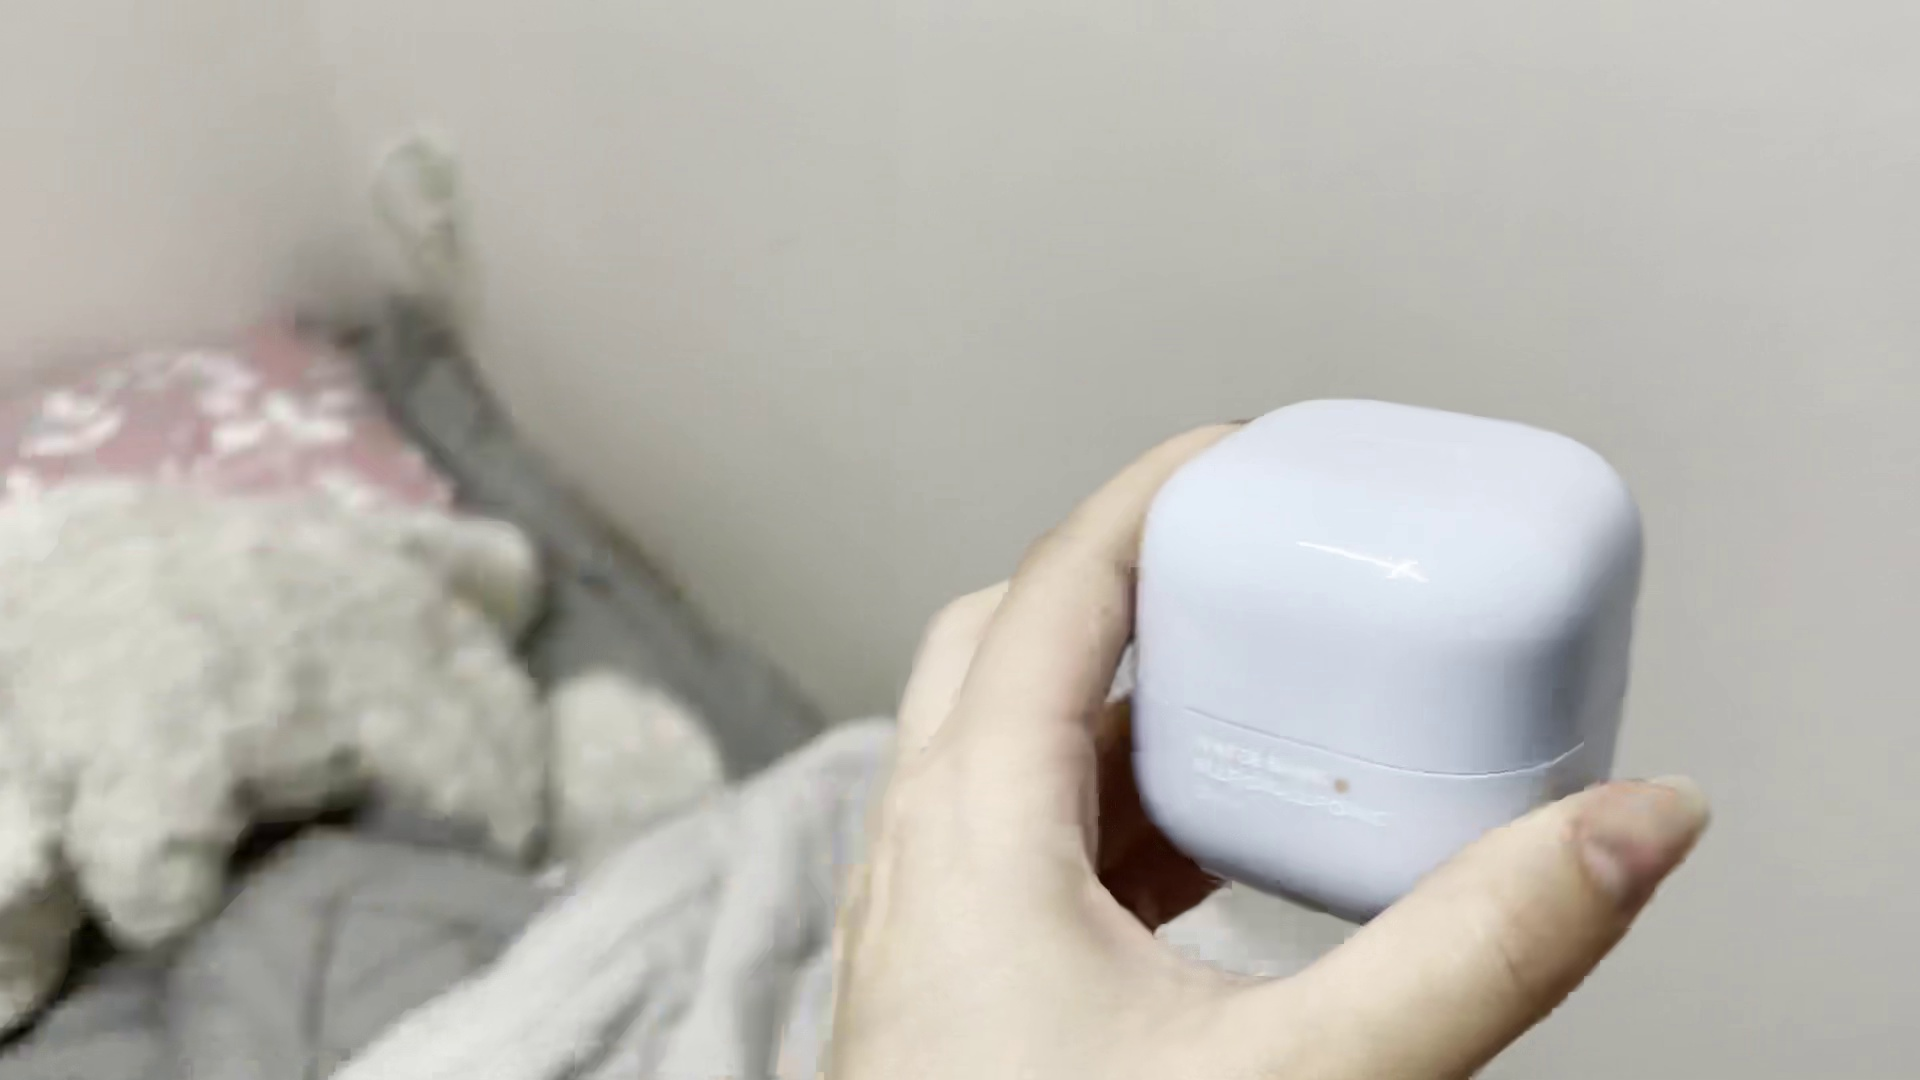cream: (1134, 392, 1648, 935)
